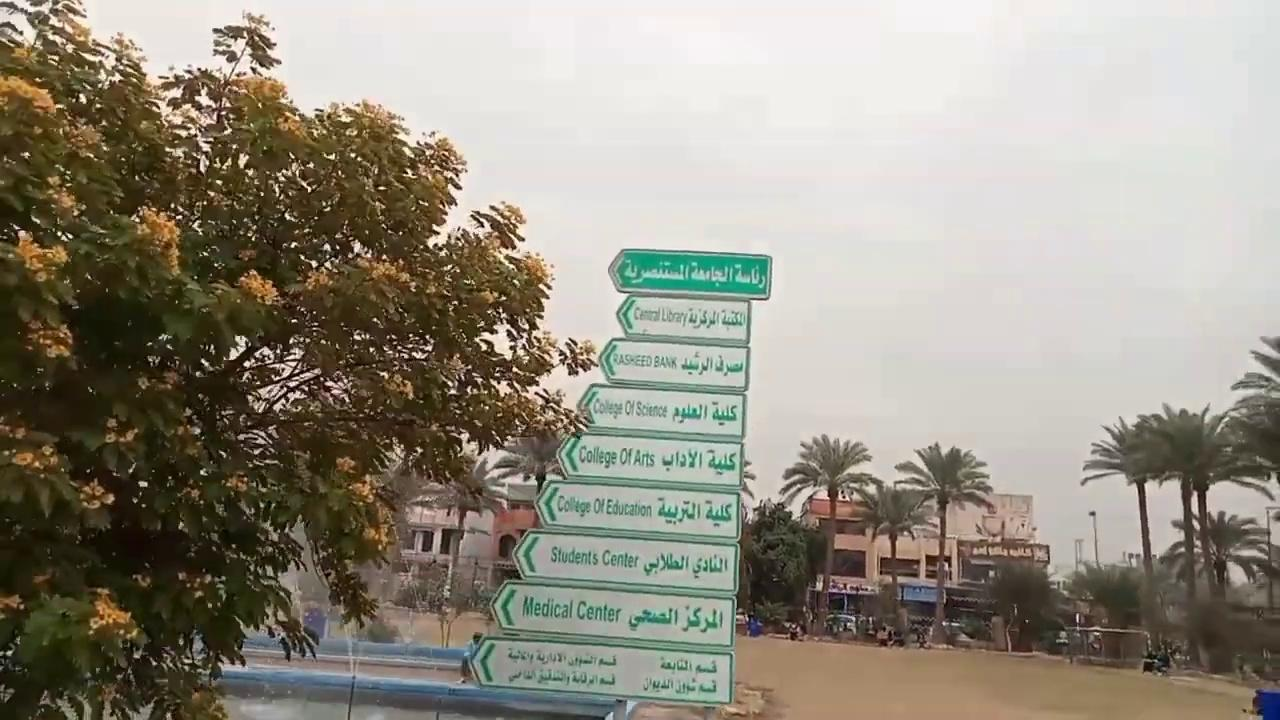fountain: (191, 662, 624, 719)
person: (459, 631, 482, 683), (299, 624, 318, 661), (278, 632, 292, 662)
tree: (0, 1, 599, 717), (1125, 400, 1266, 670), (893, 440, 994, 646), (1079, 414, 1166, 653), (406, 450, 508, 647), (778, 432, 873, 623), (846, 477, 936, 624), (739, 497, 814, 631), (1162, 507, 1264, 600), (1217, 333, 1279, 483), (986, 557, 1058, 652), (1065, 560, 1144, 628), (736, 457, 756, 614)
